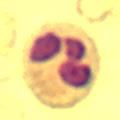neutrophil: (21, 22, 102, 107)
